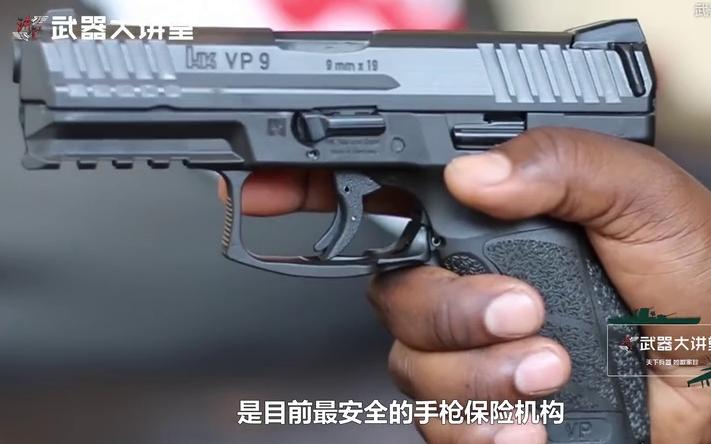gun: (1, 0, 711, 444)
